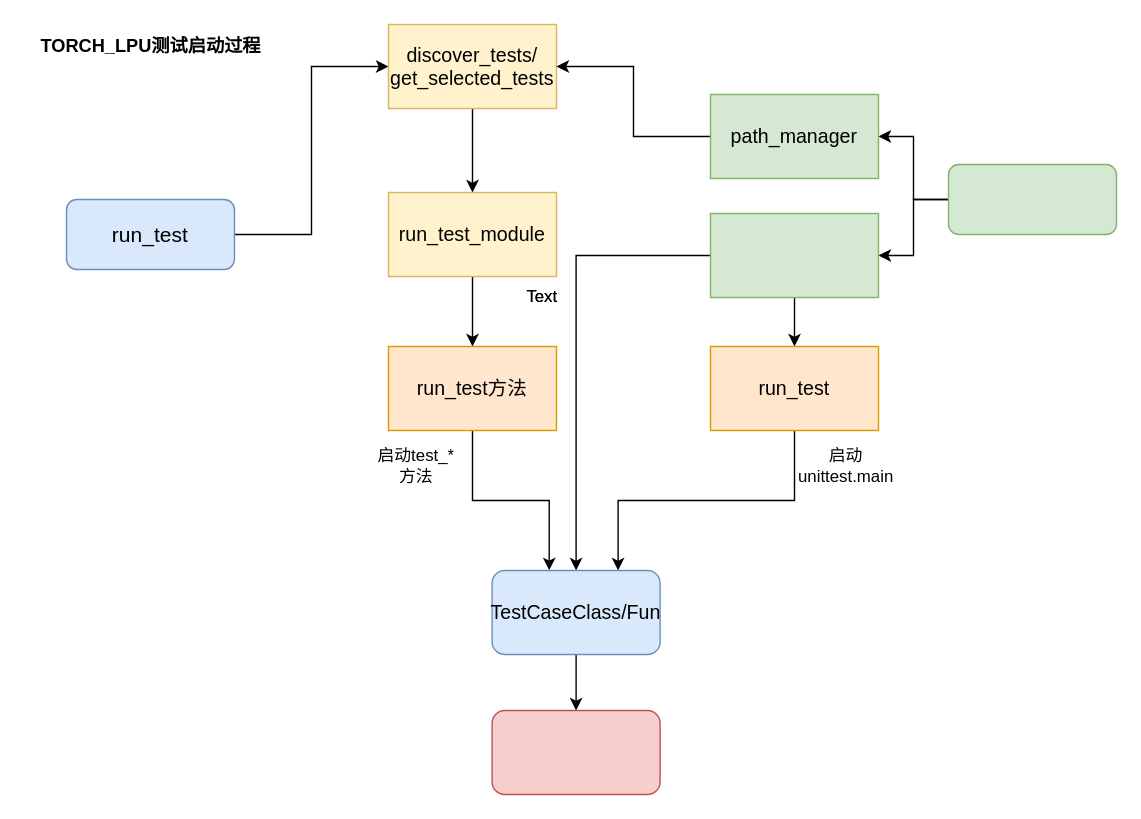
The diagram is 1141 pixels wide and 819 high, and some of its shapes have lost their labels. The shapes that lost their labels are listed below. From the top down, each one's centre as x and y in pixels, then its label:
point 1031,198: common_utils
point 793,255: common_util
point 575,751: OP/RES
